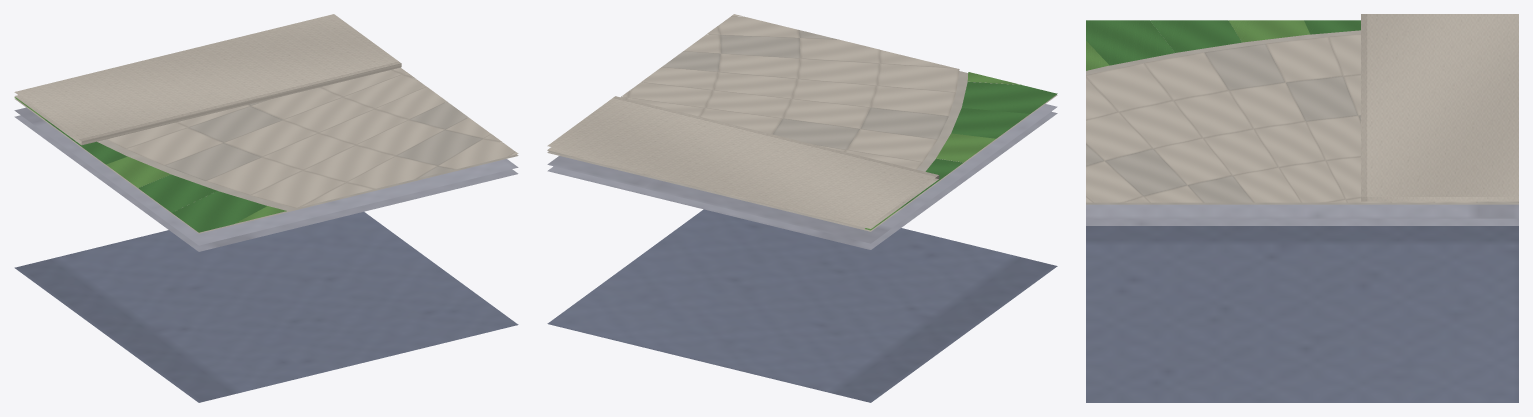
The model's file is high_crown_fracture_12.obj.
3 renders of one model, left to right at view 1: azimuth 30°, elevation 25°; view 2: azimuth 150°, elevation 25°; view 3: azimuth 270°, elevation 25°, orthographic. The views are drawn at different scales.
Parts seen in each view (by area): view 1: ArenaFracture12; view 2: ArenaFracture12; view 3: ArenaFracture12.
Boxes of the visible parts, x1,y1,x2,y2 form: ArenaFracture12: [14, 14, 518, 402]; ArenaFracture12: [547, 14, 1057, 402]; ArenaFracture12: [1086, 14, 1518, 402].
Size of the model in its own units: 10 by 5.25 by 10.
6 materials, 6 textured.
